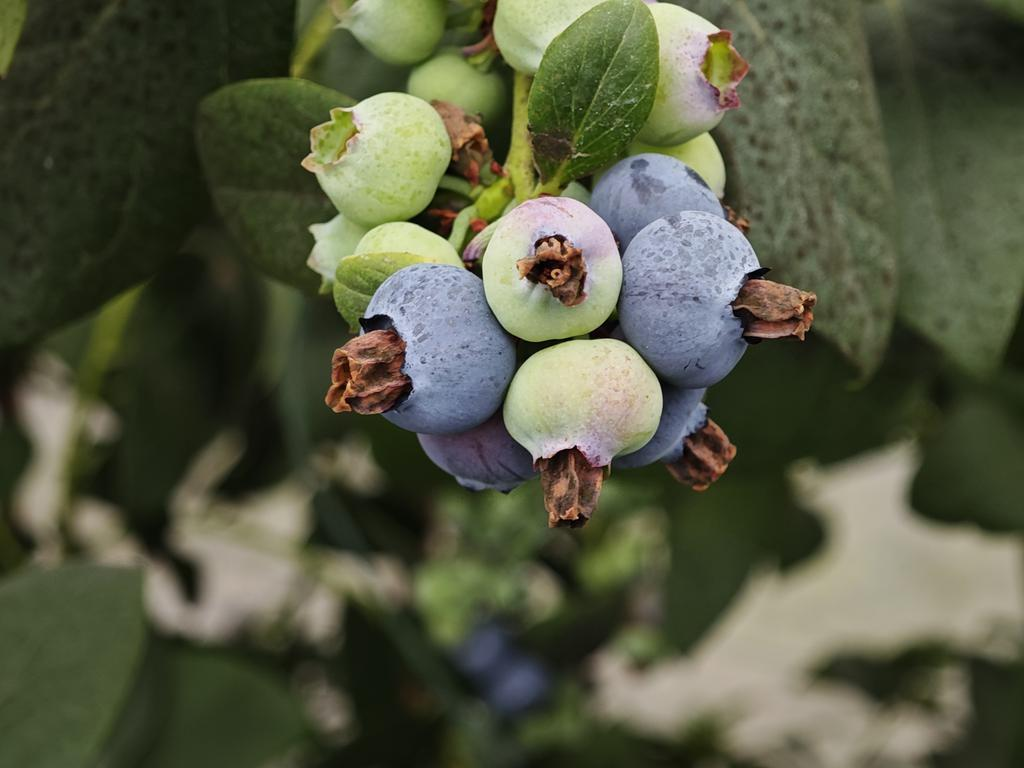RipeBlueBerry: (360, 266, 502, 431), (630, 213, 769, 374)
Semi-RipeBlueBerry: (487, 192, 621, 347)
UnripeBlueBerry: (500, 343, 668, 484), (303, 92, 451, 220)
